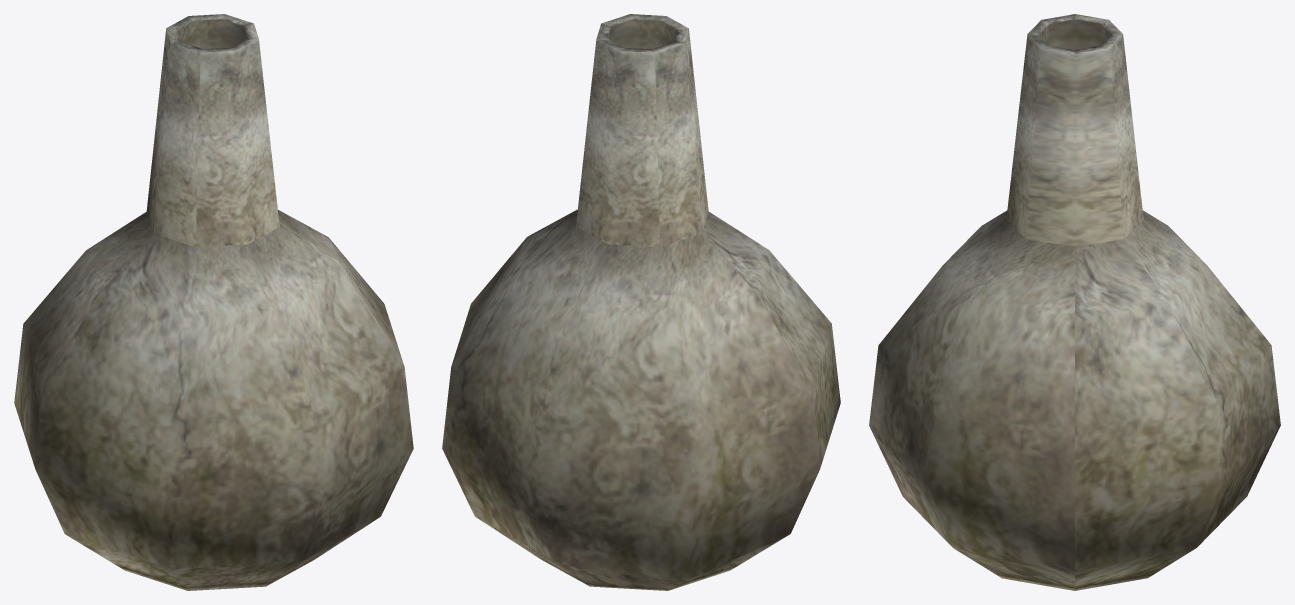
Rendered from thing_jar_white_01.glb.
The picture shows the model from 3 angles, left to right: view 1: azimuth 30°, elevation 25°; view 2: azimuth 150°, elevation 25°; view 3: azimuth 270°, elevation 25°; orthographic projection.
Visible parts, largest first — view 1: thing_jar_white_01; view 2: thing_jar_white_01; view 3: thing_jar_white_01.
Part boxes in pixels (x1,y1,x2,y2): thing_jar_white_01: (14, 14, 413, 590); thing_jar_white_01: (442, 14, 840, 590); thing_jar_white_01: (869, 14, 1280, 590).
Size of the model in its own units: 0.4574 by 0.6309 by 0.459.
Materials: 1 (1 with a texture image).
